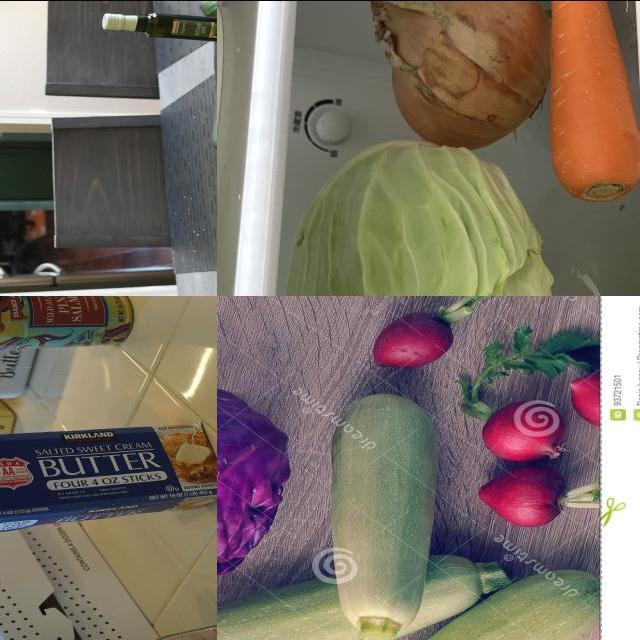cabbage: (281, 134, 570, 296)
eggplant: (551, 1, 640, 206)
onion: (367, 1, 559, 147)
zucchini: (218, 520, 498, 640), (316, 382, 434, 640), (338, 573, 590, 640)
